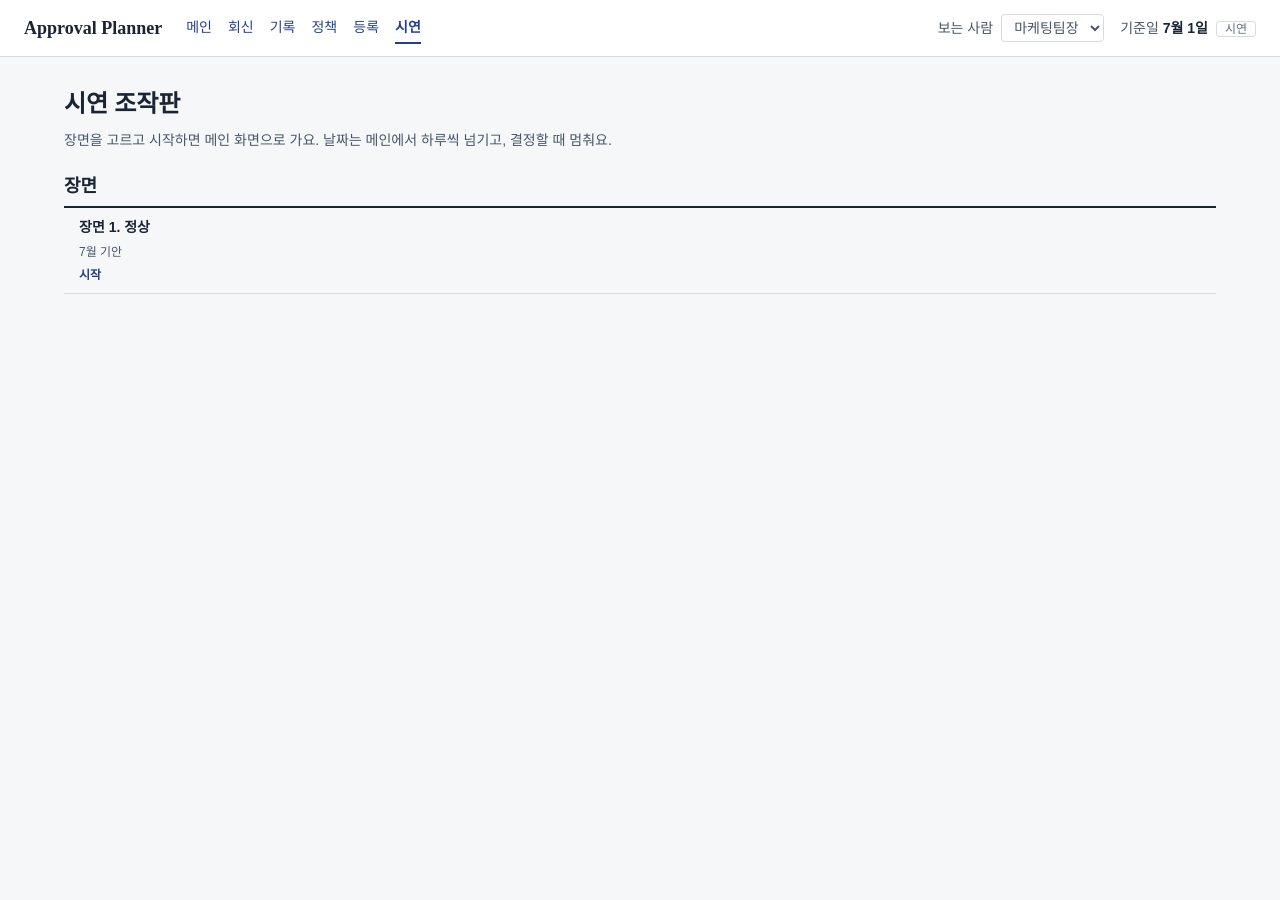
Test case: 메인의 시연 막대 › 시작하면_메인으로_간다
Click the button "장면 1. 정상 7월 기안 시작": coordinates (114, 227) left=64, top=208, right=1216, bottom=293
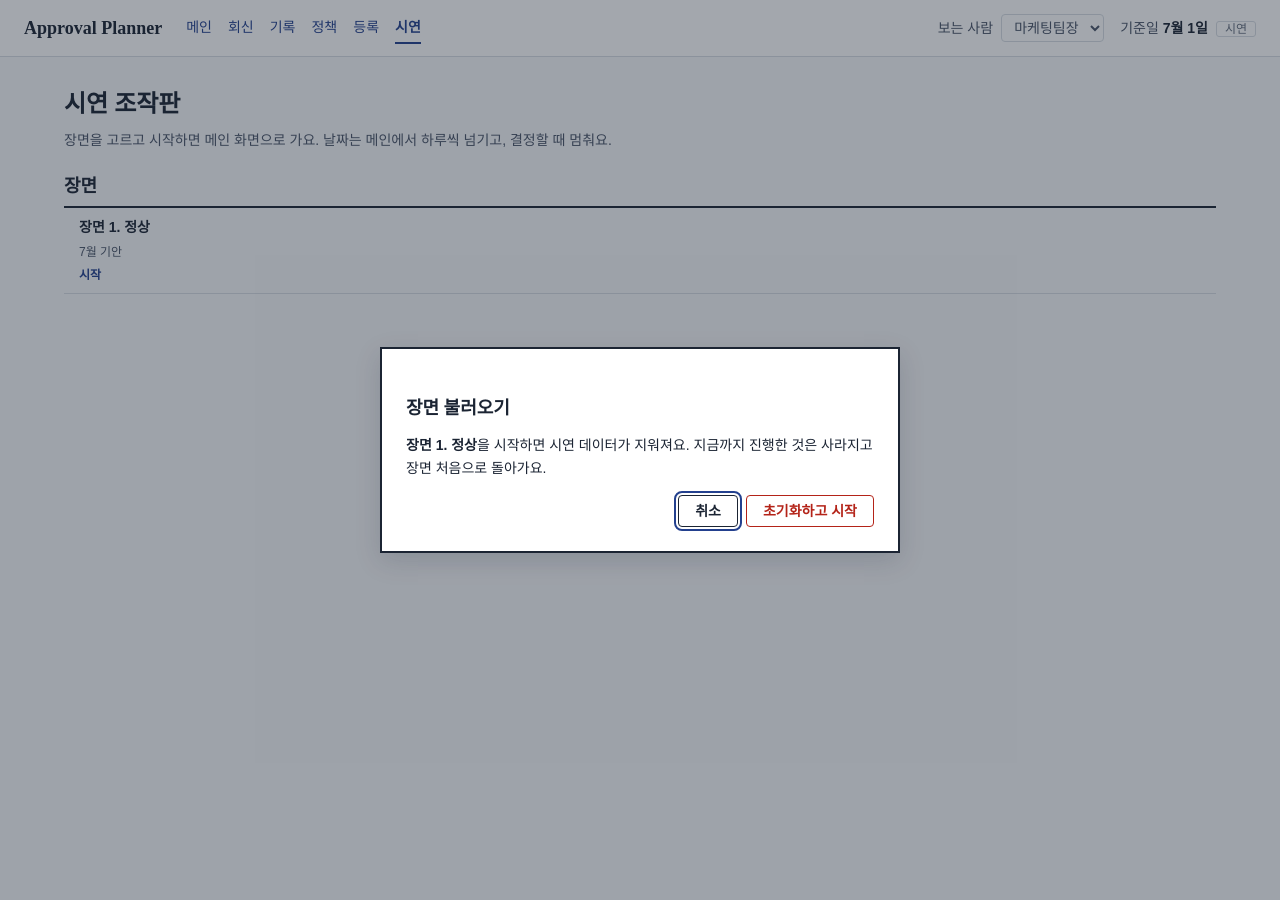
Click the button "초기화하고 시작": coordinates (810, 511) left=746, top=495, right=874, bottom=527
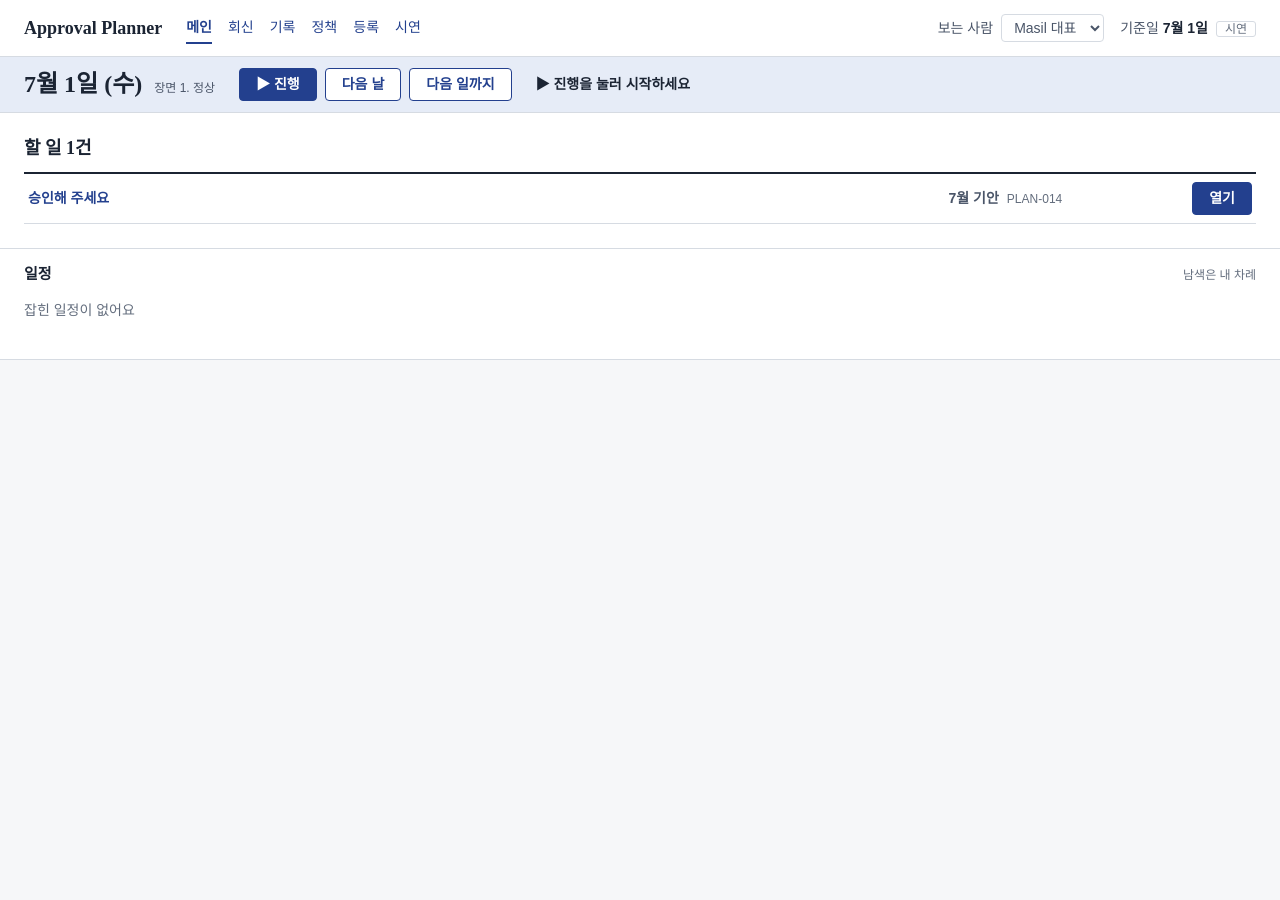
Now the text "7월 1일 (수)" is shown, box left=24, top=65, right=142, bottom=104
Now the element "할 일" is shown, box left=0, top=113, right=1279, bottom=249
Now the heading "시연 조작판" is gone
